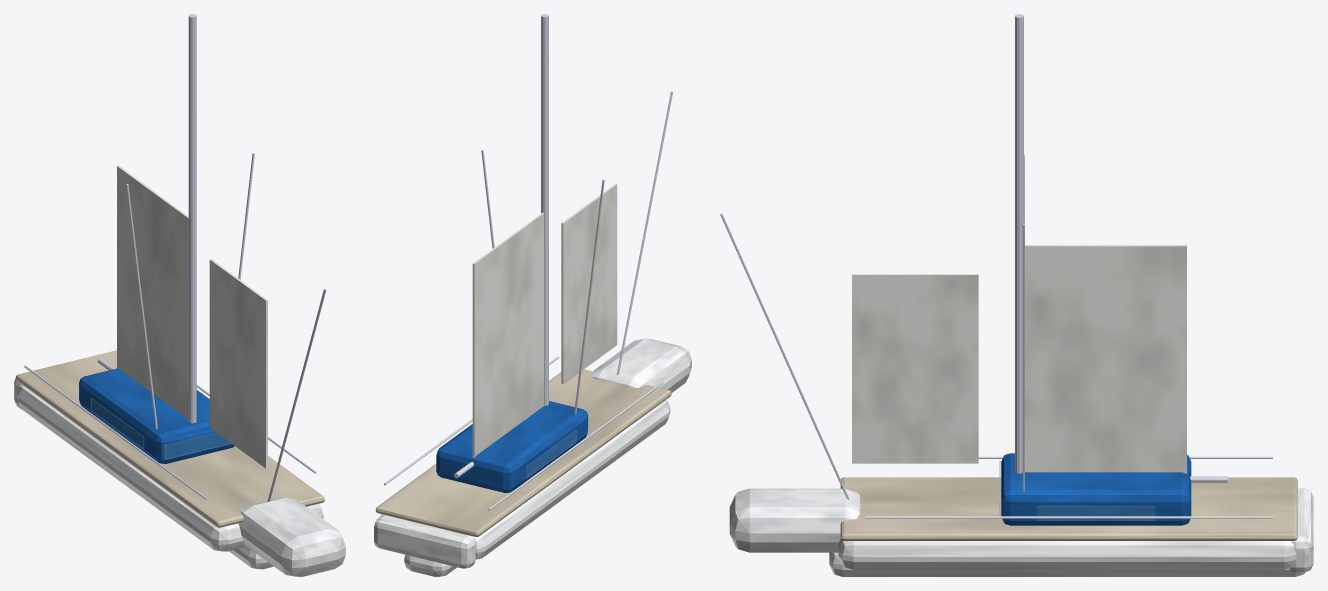
File: yacht_sailboat.glb
3 views of the same model, side by side, from view 1: azimuth 30°, elevation 25°; view 2: azimuth 150°, elevation 25°; view 3: azimuth 270°, elevation 25° (orthographic). The views are drawn at different scales.
Visible parts, largest first — view 1: yacht_sailboat_sail_main, yacht_sailboat_deckplate, yacht_sailboat_sail_jib, yacht_sailboat_deckhouse, yacht_sailboat_bow, yacht_sailboat_topsides, yacht_sailboat_mast, yacht_sailboat_cockpit_glass, yacht_sailboat_shroud_l, yacht_sailboat_port_l, yacht_sailboat_forestay, yacht_sailboat_rail_l (+1 smaller); view 2: yacht_sailboat_sail_main, yacht_sailboat_deckplate, yacht_sailboat_sail_jib, yacht_sailboat_deckhouse, yacht_sailboat_topsides, yacht_sailboat_bow, yacht_sailboat_transom, yacht_sailboat_mast, yacht_sailboat_forestay, yacht_sailboat_shroud_l, yacht_sailboat_keel, yacht_sailboat_port_l (+1 smaller); view 3: yacht_sailboat_sail_main, yacht_sailboat_sail_jib, yacht_sailboat_deckplate, yacht_sailboat_topsides, yacht_sailboat_deckhouse, yacht_sailboat_bow, yacht_sailboat_mast, yacht_sailboat_keel, yacht_sailboat_transom, yacht_sailboat_port_r, yacht_sailboat_rail_r, yacht_sailboat_forestay (+1 smaller).
Part boxes in pixels (box(x1,y1,x2,y2)): yacht_sailboat_sail_main: box(117, 165, 188, 419); yacht_sailboat_deckplate: box(15, 350, 324, 527); yacht_sailboat_sail_jib: box(209, 259, 267, 468); yacht_sailboat_deckhouse: box(79, 368, 234, 463); yacht_sailboat_bow: box(238, 497, 345, 576); yacht_sailboat_topsides: box(17, 384, 323, 551); yacht_sailboat_mast: box(188, 14, 196, 423); yacht_sailboat_cockpit_glass: box(164, 433, 231, 459); yacht_sailboat_shroud_l: box(126, 184, 157, 429); yacht_sailboat_port_l: box(91, 398, 143, 448); yacht_sailboat_forestay: box(267, 288, 326, 501); yacht_sailboat_rail_l: box(24, 365, 207, 500); yacht_sailboat_sail_main: box(472, 212, 543, 458); yacht_sailboat_deckplate: box(375, 369, 671, 536); yacht_sailboat_sail_jib: box(561, 183, 617, 384); yacht_sailboat_deckhouse: box(436, 401, 587, 492); yacht_sailboat_topsides: box(380, 400, 670, 559); yacht_sailboat_bow: box(590, 338, 691, 392); yacht_sailboat_transom: box(374, 515, 475, 568); yacht_sailboat_mast: box(541, 14, 548, 405); yacht_sailboat_forestay: box(616, 91, 672, 375); yacht_sailboat_shroud_l: box(574, 179, 604, 414); yacht_sailboat_keel: box(404, 554, 456, 576); yacht_sailboat_port_l: box(526, 430, 576, 478); yacht_sailboat_sail_main: box(1025, 245, 1186, 473); yacht_sailboat_sail_jib: box(852, 274, 978, 463); yacht_sailboat_deckplate: box(840, 477, 1297, 540); yacht_sailboat_topsides: box(838, 538, 1296, 569); yacht_sailboat_deckhouse: box(1001, 453, 1191, 525); yacht_sailboat_bow: box(729, 488, 860, 552); yacht_sailboat_mast: box(1015, 14, 1023, 473); yacht_sailboat_keel: box(829, 552, 1305, 576); yacht_sailboat_transom: box(1289, 488, 1313, 572); yacht_sailboat_port_r: box(1037, 506, 1154, 520); yacht_sailboat_rail_r: box(865, 516, 1272, 518); yacht_sailboat_forestay: box(720, 213, 849, 499).
Size of the model in its own units: 3.67 by 13.5 by 13.11.
6 materials, 6 textured.
